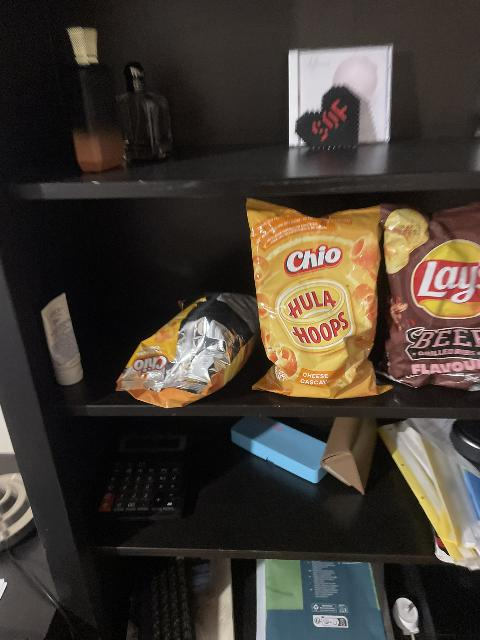Chio Cascaval 125g: (116, 293, 262, 409)
Chio Hula Hoops Cheese 70g: (245, 201, 388, 397)
Lays Beef Grilled Ribs 125g: (378, 203, 480, 386)
